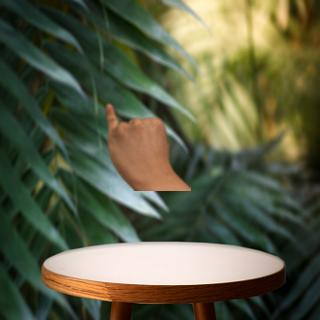FINE: (100, 99, 174, 184)
